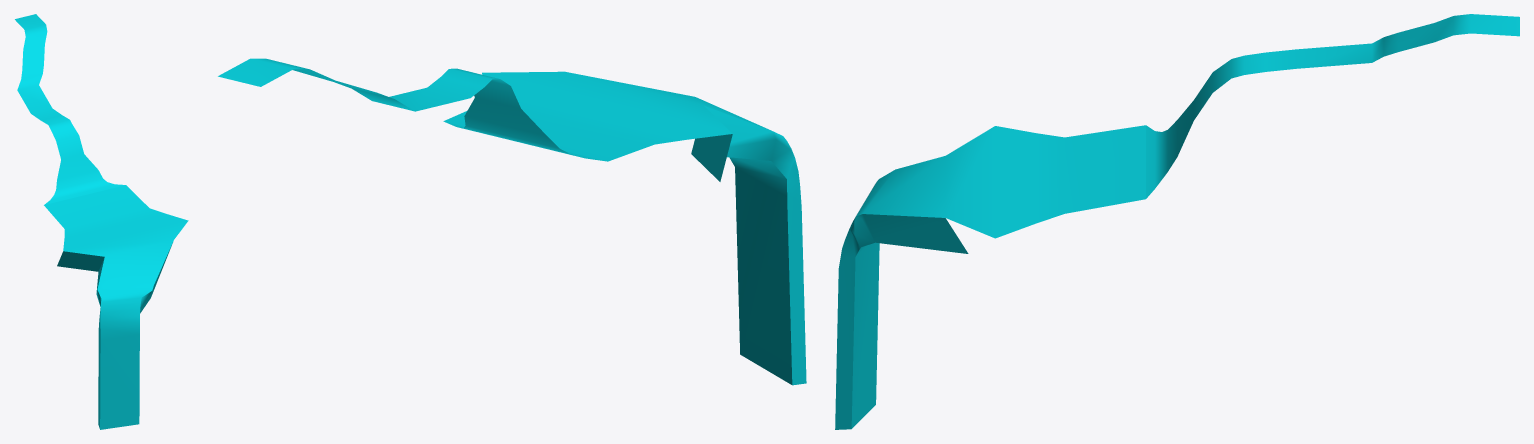
File: WATER_TOP.fbx
3 renders of one model, left to right at view 1: azimuth 30°, elevation 25°; view 2: azimuth 150°, elevation 25°; view 3: azimuth 270°, elevation 25°, orthographic. The views are drawn at different scales.
Parts seen in each view (by area): view 1: WATER_TOP; view 2: WATER_TOP; view 3: WATER_TOP.
Part boxes in pixels (x1,y1,x2,y2): WATER_TOP: (15, 14, 188, 429); WATER_TOP: (218, 58, 806, 385); WATER_TOP: (835, 14, 1519, 429).
Bounding box in the file's own units: 25.91 × 50.65 × 66.52.
